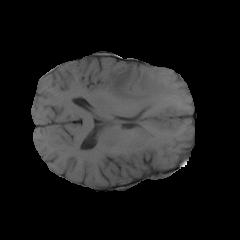glioma: (107, 64, 166, 110)
